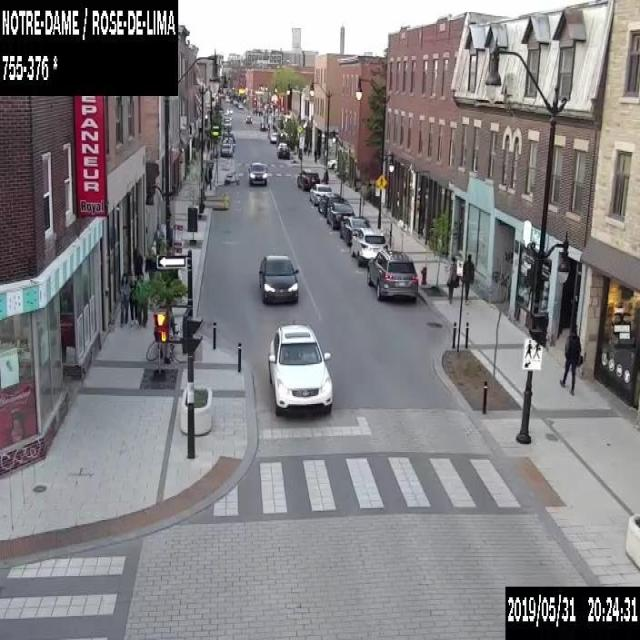pedestrian: (558, 322, 582, 394), (136, 272, 149, 327), (117, 274, 130, 327), (446, 252, 458, 303), (462, 252, 474, 301), (128, 273, 138, 326), (204, 162, 212, 190), (313, 148, 317, 163)
vehicle: (266, 324, 332, 414), (367, 249, 417, 300), (258, 253, 298, 303), (350, 227, 388, 265), (339, 216, 370, 246), (326, 201, 354, 229), (318, 192, 343, 215), (296, 168, 320, 190), (309, 183, 332, 205), (247, 161, 267, 184), (220, 143, 232, 156), (277, 146, 288, 158), (327, 157, 337, 169), (222, 116, 230, 128), (270, 132, 276, 142), (278, 141, 287, 146), (245, 115, 251, 122), (226, 108, 232, 113), (238, 103, 242, 107)
